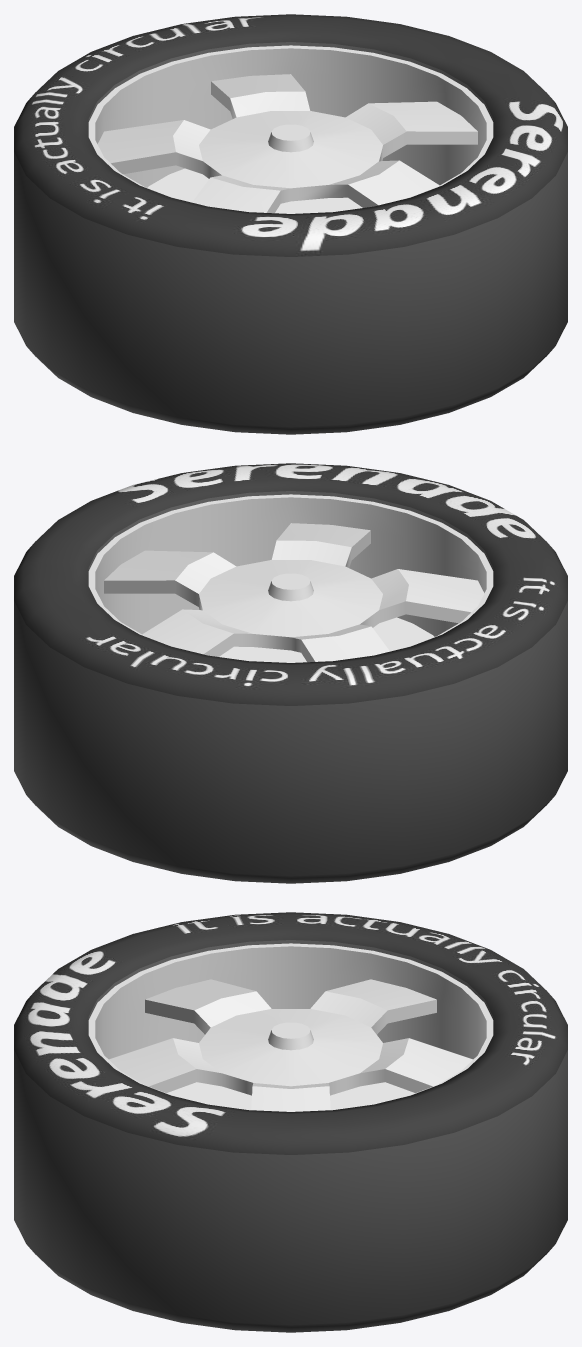
File: PretenderWheel.glb
3 views of the same model, one above another, from view 1: azimuth 30°, elevation 25°; view 2: azimuth 150°, elevation 25°; view 3: azimuth 270°, elevation 25° (orthographic).
Visible parts, largest first — view 1: Tyre, Rim, BrakeDisc; view 2: Tyre, Rim, BrakeDisc; view 3: Tyre, Rim, BrakeDisc.
Part boxes in pixels (<box>): Tyre: <box>14,14,567,434</box>; Rim: <box>88,45,493,213</box>; BrakeDisc: <box>147,168,362,213</box>; Tyre: <box>14,463,567,883</box>; Rim: <box>88,494,493,662</box>; BrakeDisc: <box>219,617,434,662</box>; Tyre: <box>14,912,567,1332</box>; Rim: <box>88,943,493,1111</box>; BrakeDisc: <box>167,1082,414,1110</box>.
Size of the model in its own units: 0.68 by 0.272 by 0.6763.
Materials: 5 (1 with a texture image).
